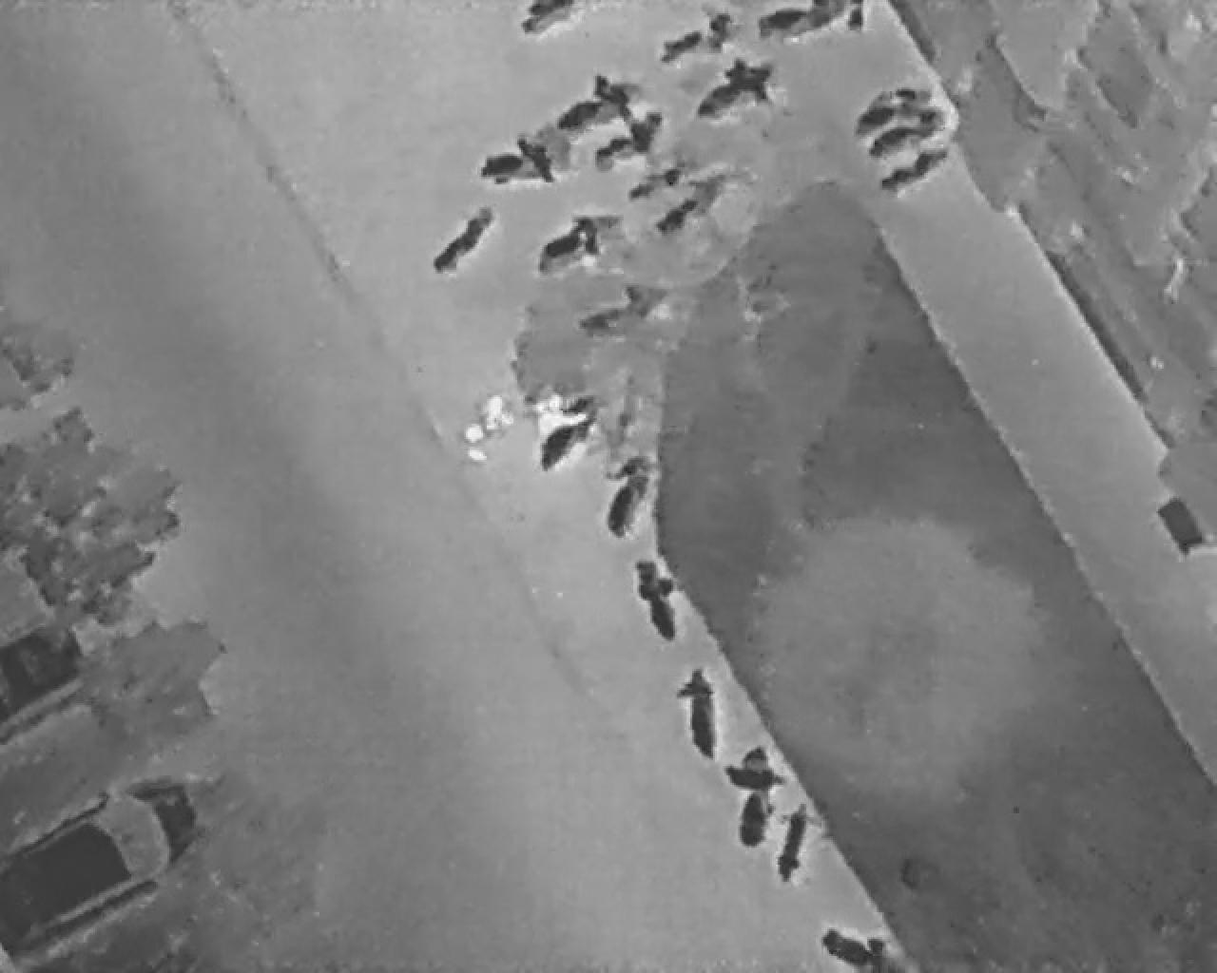person: (531, 391, 573, 465), (482, 396, 514, 436)
